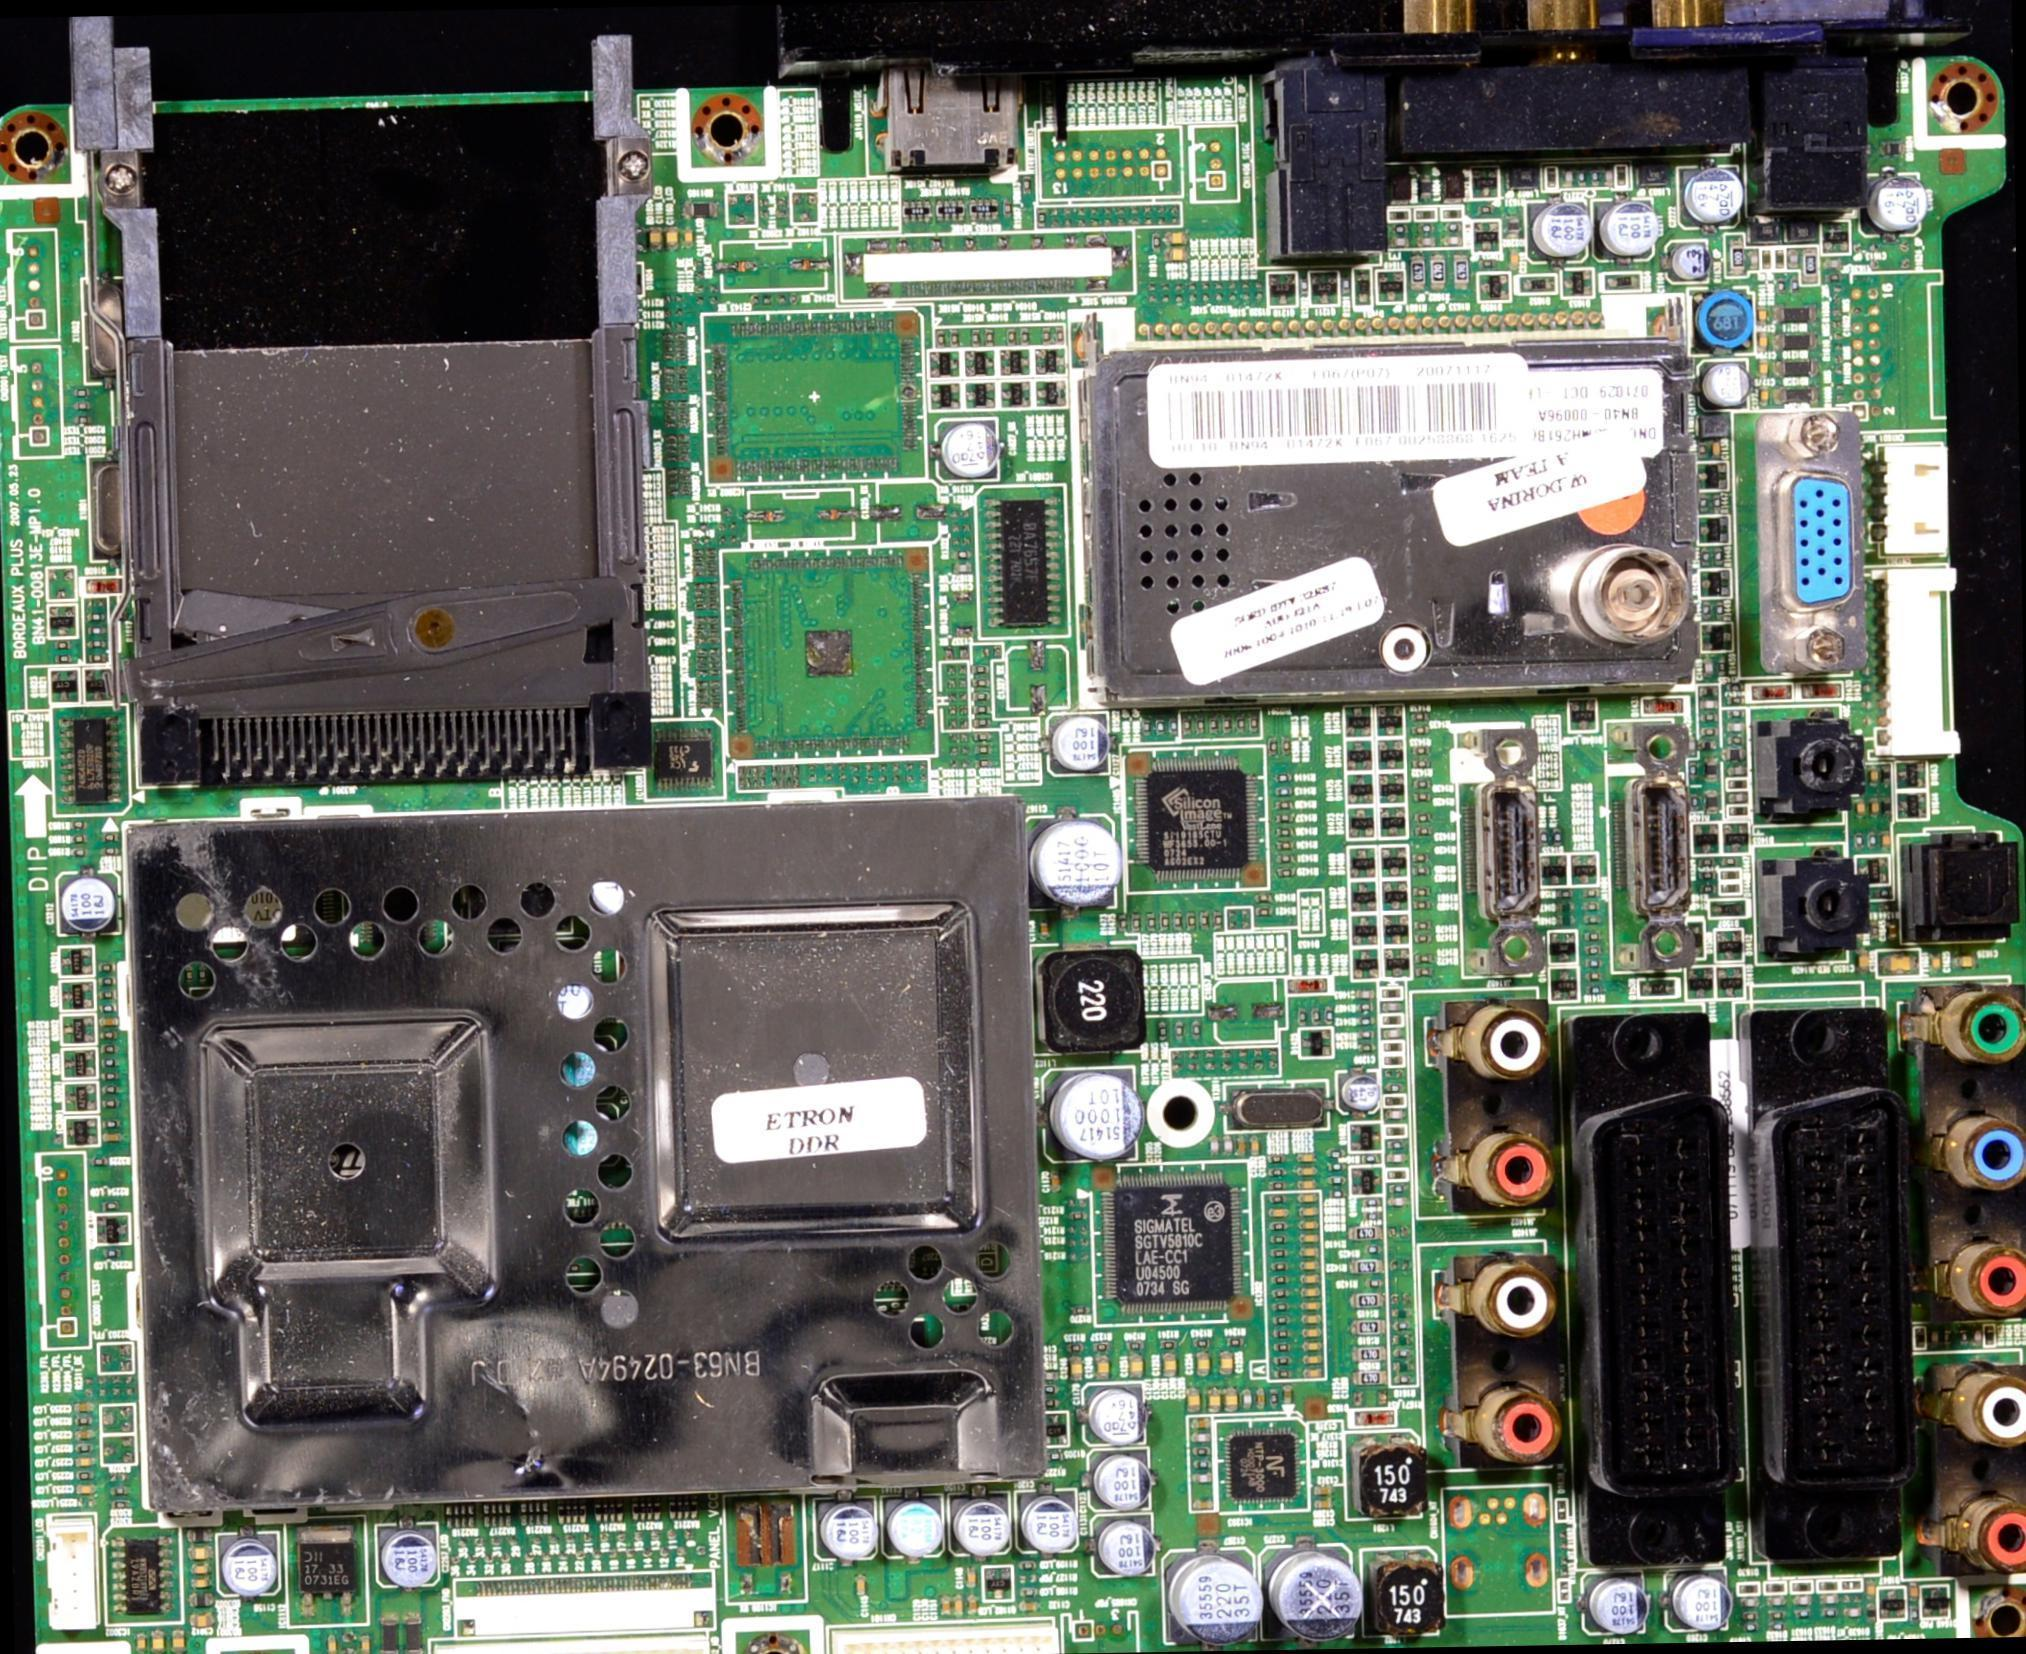Capacitor: (1878, 953, 1919, 976), (1094, 1356, 1112, 1378), (1186, 1388, 1202, 1413), (1129, 1356, 1147, 1377), (1196, 1353, 1212, 1376), (1068, 1358, 1084, 1381), (1207, 1389, 1221, 1413), (187, 1546, 212, 1560), (173, 1630, 188, 1652), (1219, 1351, 1232, 1375), (1224, 1388, 1237, 1411), (665, 227, 678, 250), (1856, 951, 1868, 976), (1249, 1134, 1260, 1159), (1191, 1497, 1216, 1509), (189, 1614, 213, 1625), (98, 1013, 120, 1027), (1164, 247, 1187, 260), (102, 1130, 122, 1144), (150, 1632, 164, 1653), (1929, 952, 1940, 975), (1235, 1134, 1247, 1156), (1162, 1354, 1175, 1376), (1280, 1384, 1293, 1406), (1017, 1602, 1038, 1613), (1816, 1594, 1838, 1605), (1790, 1594, 1812, 1605), (134, 1631, 147, 1653), (650, 226, 661, 247), (1164, 233, 1186, 244), (855, 1578, 868, 1597), (189, 1578, 212, 1588), (966, 1595, 978, 1615), (1763, 1595, 1784, 1607), (1739, 1596, 1762, 1607), (682, 227, 694, 248), (1757, 331, 1769, 352), (1957, 954, 1973, 968), (361, 1631, 372, 1653), (1869, 796, 1879, 817), (1880, 830, 1889, 852), (1299, 1191, 1317, 1203), (191, 1561, 210, 1574), (1755, 306, 1767, 325), (1855, 800, 1866, 817), (1302, 1328, 1323, 1337), (1190, 1418, 1210, 1429), (1313, 1497, 1333, 1507), (1843, 1608, 1863, 1619), (1757, 359, 1767, 379), (1868, 765, 1878, 785), (1049, 1172, 1059, 1192), (1255, 1388, 1266, 1407), (75, 1429, 94, 1438), (1311, 1485, 1330, 1495), (326, 1633, 337, 1653), (1303, 1368, 1325, 1376), (1843, 1592, 1858, 1604), (1298, 1154, 1317, 1162), (1296, 1166, 1316, 1175), (1298, 1181, 1317, 1190), (1301, 1206, 1317, 1216), (1300, 1261, 1318, 1270), (1303, 1341, 1322, 1349), (1759, 389, 1768, 405), (1300, 1246, 1319, 1256), (74, 1405, 93, 1413), (76, 1458, 94, 1467), (940, 1596, 949, 1615), (952, 1597, 961, 1615), (1302, 1302, 1319, 1310), (1302, 1314, 1319, 1323), (1305, 1354, 1322, 1363), (967, 1568, 975, 1588), (1302, 1275, 1318, 1283), (1302, 1288, 1317, 1296), (1269, 1209, 1287, 1217), (1299, 1235, 1317, 1242), (1300, 1221, 1318, 1229), (77, 1485, 95, 1491)
IC: (720, 545, 936, 759), (700, 310, 926, 484), (1089, 1163, 1244, 1322), (975, 483, 1066, 638), (282, 1515, 367, 1623), (1214, 1419, 1309, 1514), (721, 1496, 805, 1602), (51, 704, 130, 815), (102, 1523, 181, 1625)
Resistor: (1223, 1336, 1248, 1348), (1273, 1325, 1293, 1340), (1278, 810, 1295, 825), (1272, 1354, 1295, 1366), (1270, 1287, 1290, 1300), (1066, 1340, 1085, 1353), (1126, 1340, 1146, 1352), (1256, 903, 1276, 917), (1144, 912, 1158, 932), (1379, 987, 1401, 999), (1274, 1367, 1296, 1378), (1275, 797, 1297, 809), (1254, 891, 1276, 903), (1199, 911, 1211, 933), (1158, 1338, 1176, 1351), (1184, 912, 1198, 931), (1071, 1304, 1093, 1314), (1191, 1459, 1212, 1471), (1211, 910, 1223, 931), (102, 1028, 120, 1042), (1270, 1302, 1292, 1312), (1272, 1342, 1294, 1353), (109, 1497, 132, 1508), (102, 1097, 121, 1108), (104, 1119, 122, 1130), (1271, 1247, 1289, 1259), (1271, 1261, 1289, 1272), (1272, 1312, 1291, 1324), (74, 1441, 92, 1452), (1279, 737, 1290, 755), (71, 847, 90, 858), (1130, 912, 1142, 931), (1116, 913, 1128, 932), (92, 1156, 108, 1169), (1266, 1167, 1286, 1177), (1267, 1180, 1287, 1190), (1271, 1276, 1290, 1286), (1193, 1339, 1213, 1350), (77, 1468, 93, 1481), (1275, 866, 1295, 877), (1159, 911, 1170, 930), (100, 1002, 117, 1013), (1267, 1154, 1285, 1164), (71, 385, 89, 395), (1410, 712, 1428, 721), (1248, 714, 1258, 732), (1411, 725, 1430, 735), (1273, 773, 1292, 783), (1275, 826, 1294, 837), (1276, 853, 1294, 863), (1173, 912, 1183, 930), (1415, 778, 1431, 789), (1414, 791, 1429, 802), (102, 843, 117, 854), (1415, 865, 1430, 876), (97, 962, 114, 972), (98, 976, 115, 986), (99, 989, 116, 999), (1270, 1235, 1287, 1245), (111, 1485, 128, 1495), (87, 611, 104, 621), (1181, 717, 1191, 734), (1155, 718, 1165, 735), (70, 819, 87, 829), (1415, 965, 1433, 975), (1355, 1003, 1373, 1011), (1357, 1017, 1375, 1025), (1268, 1221, 1288, 1230), (73, 400, 91, 409), (1274, 842, 1293, 850), (100, 1042, 115, 1052), (102, 1070, 118, 1081), (1093, 1342, 1109, 1352), (89, 638, 105, 647), (1195, 716, 1205, 732), (1584, 901, 1598, 911), (1416, 933, 1431, 942), (1585, 930, 1601, 941), (1584, 960, 1601, 969), (1589, 986, 1606, 994), (1356, 1029, 1373, 1039), (1358, 1043, 1375, 1052), (1268, 1193, 1285, 1202), (88, 625, 104, 633), (1235, 714, 1243, 731), (1223, 715, 1231, 732), (1169, 717, 1178, 734), (1143, 718, 1151, 735), (1210, 717, 1219, 734), (1268, 738, 1278, 756), (1411, 745, 1428, 754), (1411, 759, 1429, 768), (1275, 786, 1293, 795), (1584, 889, 1600, 897), (1582, 915, 1599, 923), (1586, 973, 1600, 982), (104, 1057, 117, 1067), (1191, 1448, 1211, 1456), (55, 654, 76, 662), (73, 833, 85, 843), (1415, 813, 1429, 822), (1585, 947, 1600, 956), (1416, 954, 1431, 963), (54, 640, 69, 647), (89, 653, 104, 662), (1414, 888, 1429, 896), (1416, 901, 1430, 909), (1415, 922, 1431, 930), (73, 415, 91, 423), (105, 1085, 116, 1095), (74, 1416, 91, 1424), (100, 833, 116, 839), (1415, 852, 1426, 862), (1416, 827, 1430, 833)
Transistor: (1308, 271, 1345, 307), (49, 664, 82, 701), (1713, 964, 1745, 1001), (59, 980, 95, 1012), (57, 946, 93, 978), (59, 1015, 96, 1045), (61, 1050, 98, 1080), (1683, 965, 1714, 999), (1875, 1585, 1906, 1619), (1918, 1587, 1950, 1620), (1375, 270, 1405, 304), (45, 566, 76, 601), (1546, 930, 1578, 963), (1478, 271, 1511, 301), (83, 668, 112, 701), (1267, 271, 1296, 306), (1713, 929, 1741, 962), (1473, 219, 1501, 253), (1549, 966, 1577, 1001), (66, 1119, 98, 1147), (45, 602, 74, 635), (1721, 820, 1749, 853), (1602, 272, 1642, 294), (1708, 899, 1748, 920), (1691, 825, 1720, 854), (1568, 698, 1596, 731), (63, 1084, 96, 1109), (1470, 168, 1498, 198), (1045, 1411, 1068, 1445), (1352, 267, 1372, 304), (1563, 269, 1591, 296), (1517, 276, 1556, 295)
